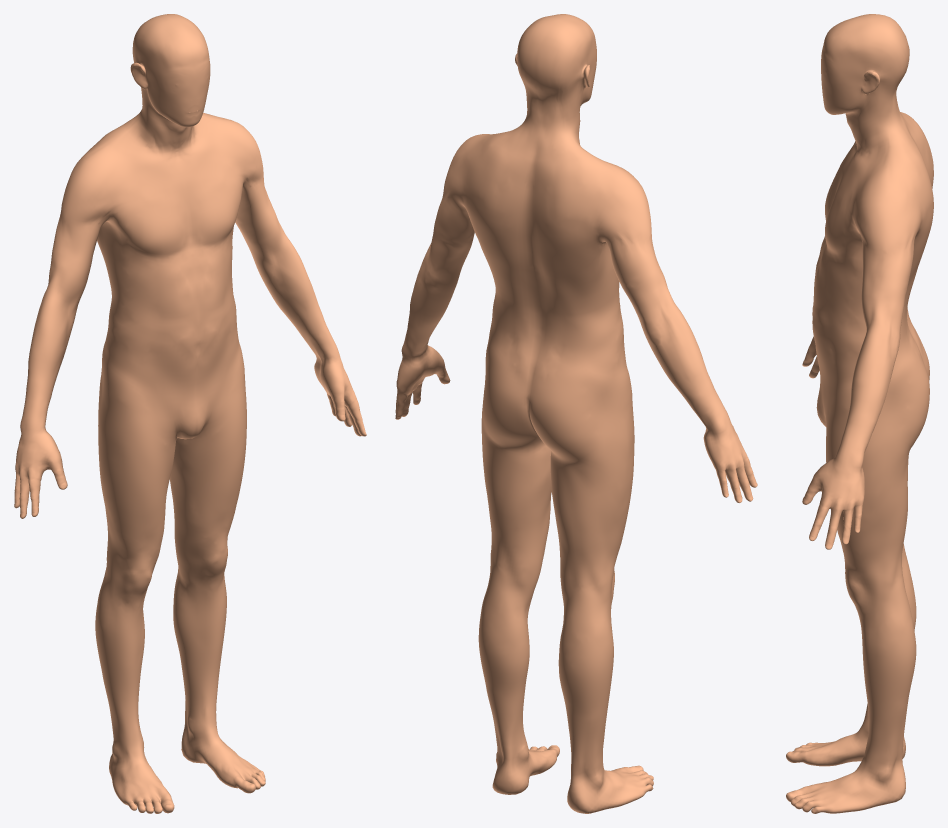
3 views of the same model, side by side, from view 1: azimuth 30°, elevation 25°; view 2: azimuth 150°, elevation 25°; view 3: azimuth 270°, elevation 25° (orthographic). The views are drawn at different scales.
Parts seen in each view (by area): view 1: body; view 2: body; view 3: body.
Part boxes in pixels (<box>): body: <box>14,14,366,813</box>; body: <box>395,14,757,813</box>; body: <box>786,14,933,813</box>.
Bounding box in the file's own units: 88.65 × 188 × 32.95.
